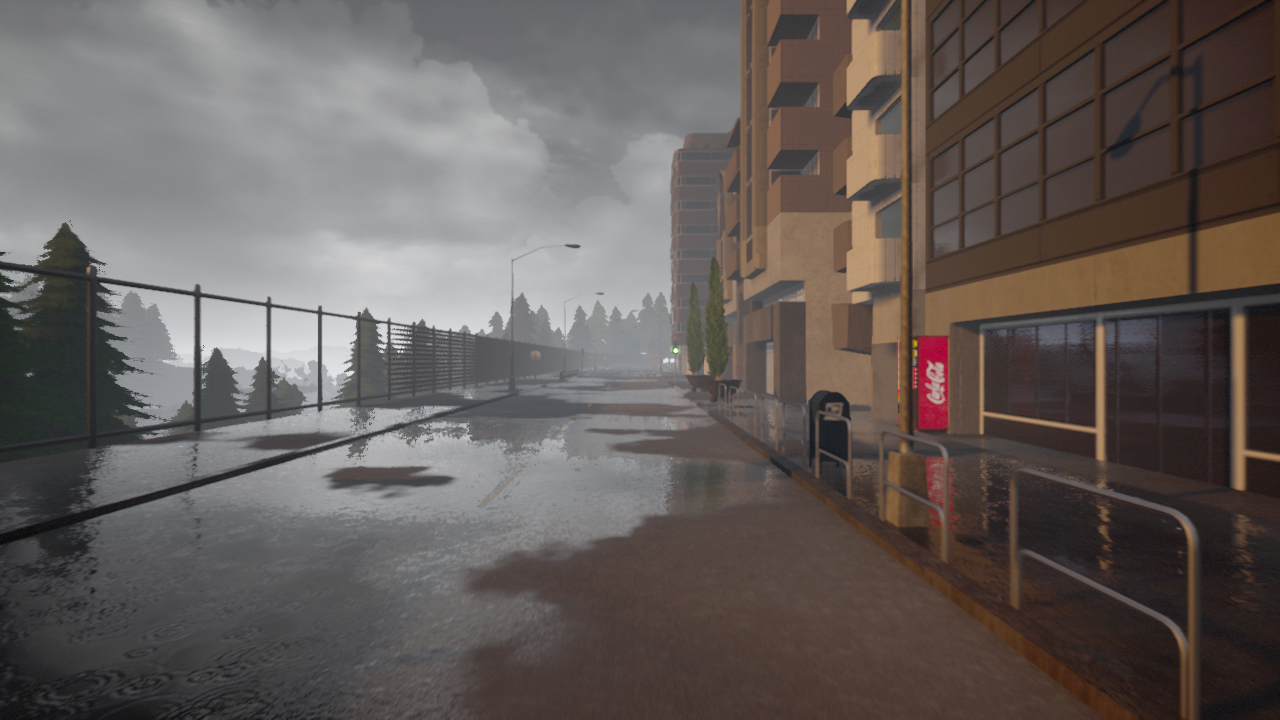green: (672, 339, 679, 356)
